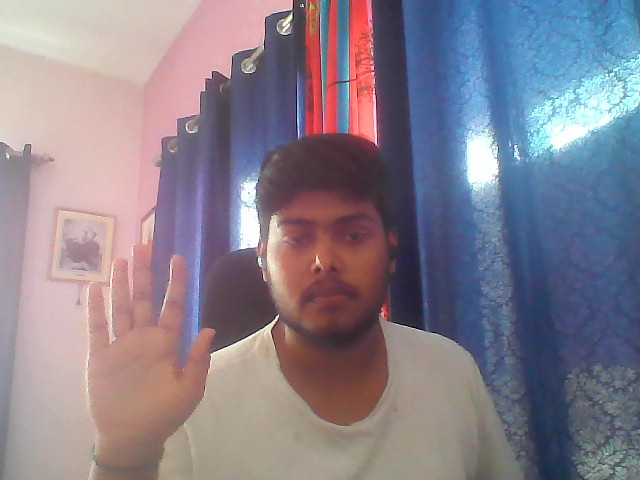Hello: (74, 241, 223, 450)
